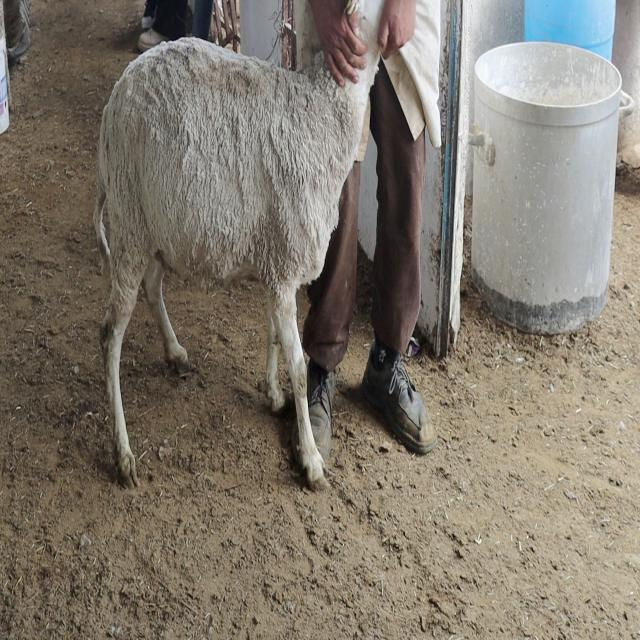Score_5: (93, 0, 385, 488)
